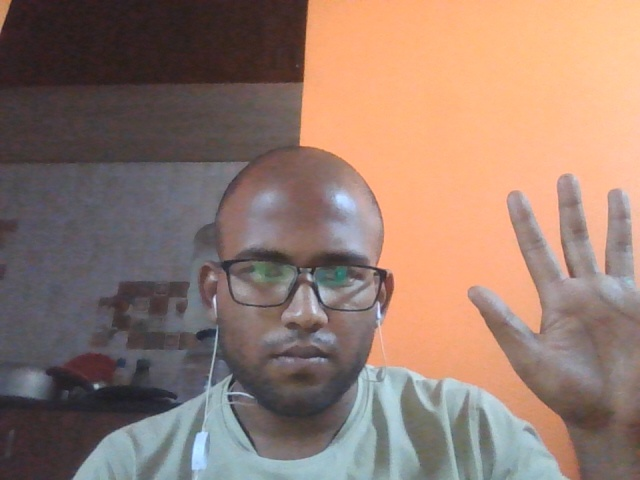hello: (458, 138, 640, 436)
